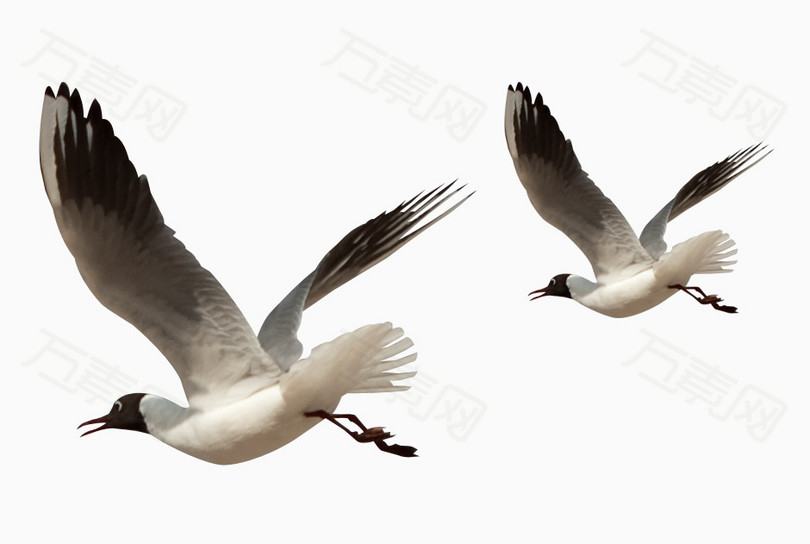bird: (29, 81, 455, 468), (502, 83, 771, 327)
